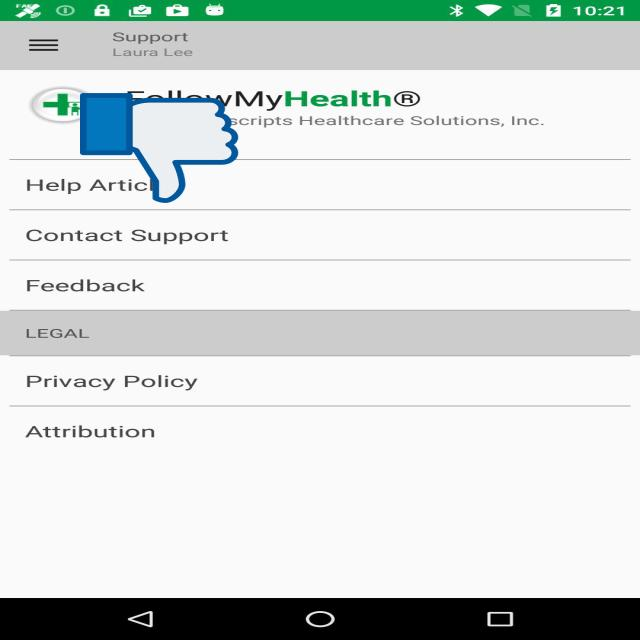obstruction: (80, 91, 238, 205)
